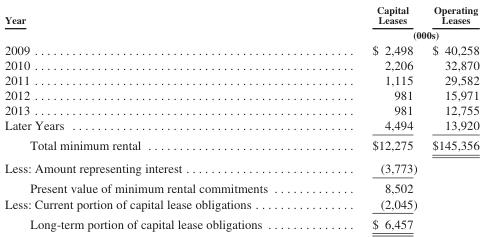table: (3, 3, 478, 230)
table column: (3, 3, 319, 230), (319, 3, 424, 230), (424, 3, 478, 230)
table column header: (3, 3, 478, 41)
table row: (3, 3, 478, 27), (3, 156, 478, 178), (3, 135, 478, 156), (3, 117, 478, 135), (3, 195, 478, 213), (3, 178, 478, 195), (3, 213, 478, 230), (3, 71, 478, 87), (3, 41, 478, 56), (3, 56, 478, 71), (3, 87, 478, 102), (3, 102, 478, 117), (3, 27, 478, 41)
table spanning cell: (3, 3, 319, 41), (319, 27, 478, 41)
